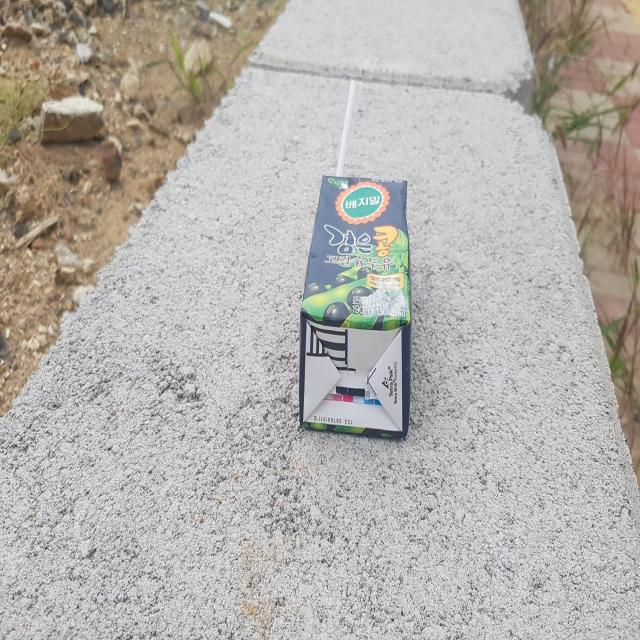paperpack: (300, 175, 411, 436)
